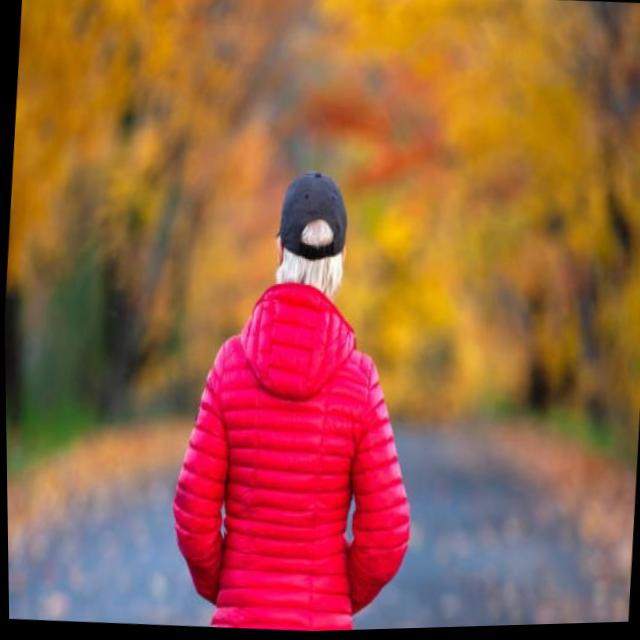no helmet: (266, 162, 353, 296)
